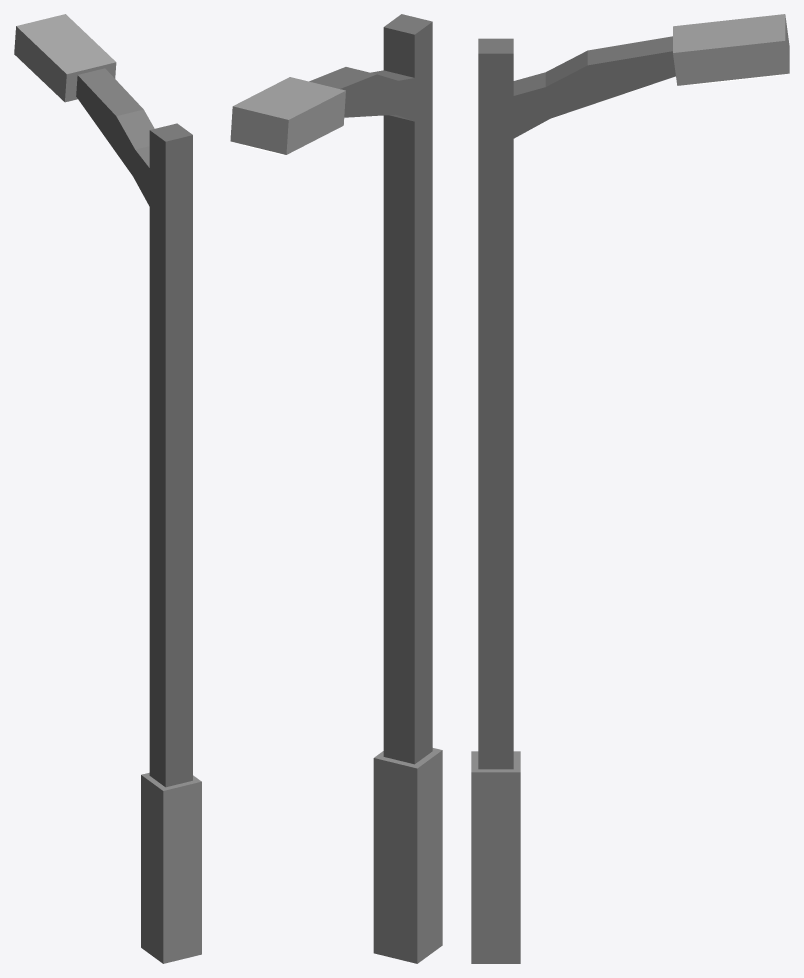
Rendered from Streetlight.fbx.
The picture shows the model from 3 angles, left to right: view 1: azimuth 30°, elevation 25°; view 2: azimuth 150°, elevation 25°; view 3: azimuth 270°, elevation 25°; orthographic projection. The views are drawn at different scales.
Parts seen in each view (by area): view 1: Model_0_Alive, Model_1_Alive, Model_0_Dead.001; view 2: Model_0_Alive, Model_1_Alive, Model_0_Dead.001; view 3: Model_0_Alive, Model_1_Alive, Model_0_Dead.001.
Boxes of the visible parts, left/top/right/bottom form: Model_0_Alive: left=14, top=14, right=192, bottom=789; Model_1_Alive: left=76, top=77, right=192, bottom=782; Model_0_Dead.001: left=141, top=772, right=201, bottom=963; Model_0_Alive: left=230, top=14, right=439, bottom=767; Model_1_Alive: left=344, top=22, right=432, bottom=763; Model_0_Dead.001: left=373, top=748, right=442, bottom=963; Model_0_Alive: left=473, top=14, right=789, bottom=769; Model_1_Alive: left=478, top=52, right=675, bottom=769; Model_0_Dead.001: left=471, top=751, right=520, bottom=963.
Size of what is drawn, in the model's own units: 0.45 by 7.25 by 2.26.
Materials: 1 (1 with a texture image).
